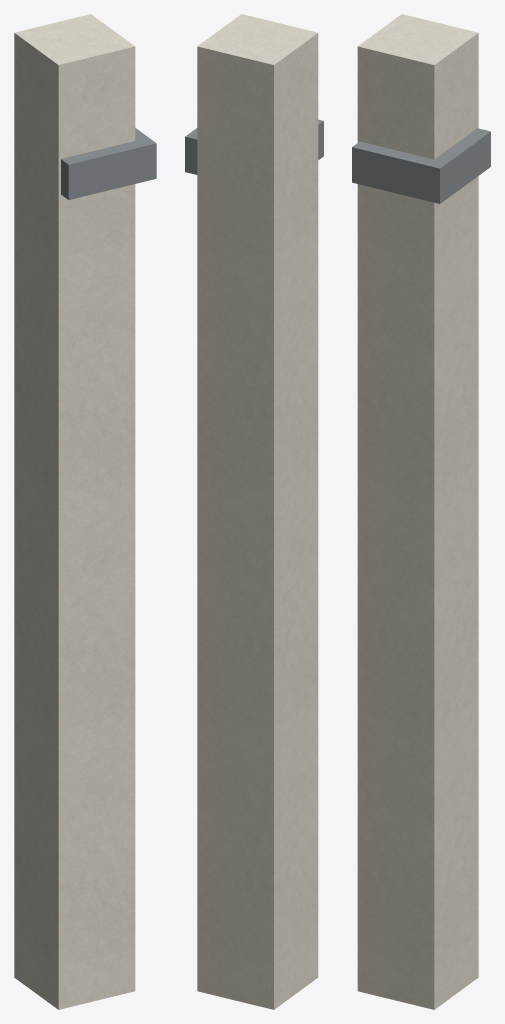
The model's file is corner_ground.glb.
The picture shows the model from 3 angles, left to right: view 1: azimuth 30°, elevation 25°; view 2: azimuth 150°, elevation 25°; view 3: azimuth 330°, elevation 25°; orthographic projection.
Parts seen in each view (by area): view 1: corner_ground_panel, corner_ground_shopframe; view 2: corner_ground_panel, corner_ground_shopframe; view 3: corner_ground_panel, corner_ground_shopframe.
Boxes of the visible parts, <box> form: corner_ground_panel: <box>14,14,135,1009</box>; corner_ground_shopframe: <box>61,128,156,199</box>; corner_ground_panel: <box>197,14,318,1009</box>; corner_ground_shopframe: <box>185,119,323,174</box>; corner_ground_panel: <box>357,14,478,1009</box>; corner_ground_shopframe: <box>352,128,490,203</box>.
Bounding box in the file's own units: 0.4 × 4 × 0.4.
2 materials, 1 textured.
